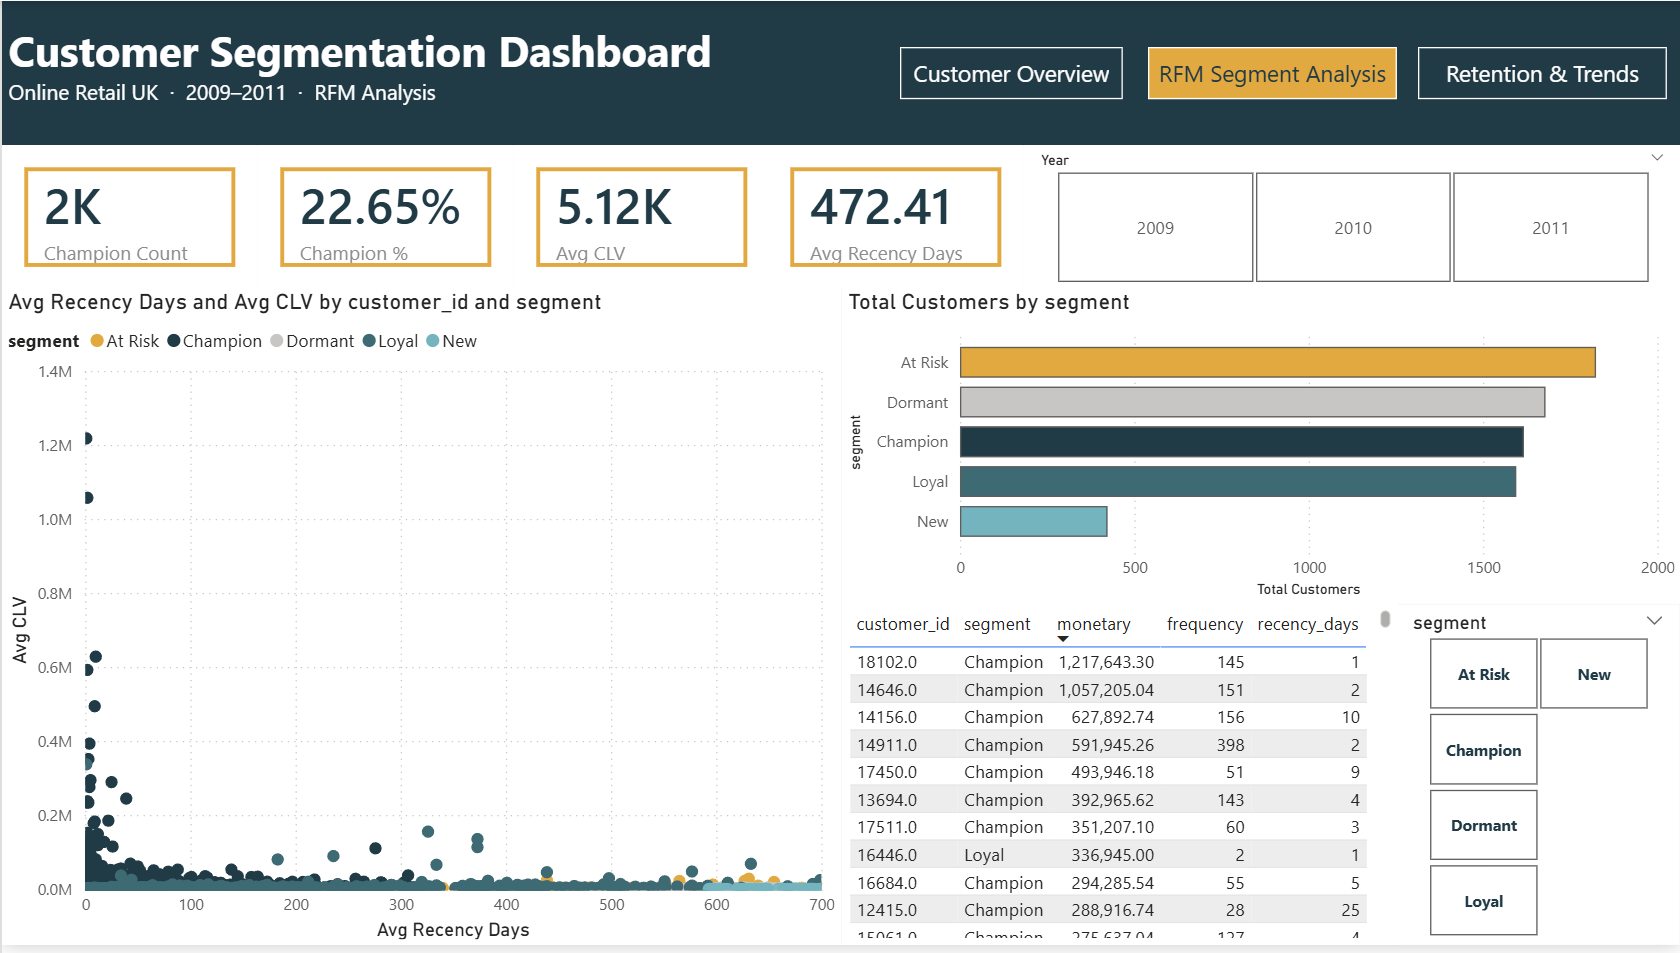

What the dashboard file says about the page in this screenshot:
{"tool":"powerbi","page":{"name":"RFM Segment Analysis","canvas":[1280,720],"ordinal":1},"visuals":[{"type":"shape","box":[0,0,1280,110],"z":0},{"type":"textbox","box":[0,10,1280,145.5],"z":1000},{"type":"actionButton","box":[684.4,35.2,170,39.8],"z":2000},{"type":"actionButton","box":[874.3,35.2,189.9,39.8],"z":3000},{"type":"actionButton","box":[1079.4,35.2,189.9,39.8],"z":4000},{"type":"cardVisual","fields":{"Data":["rfm_segments.Champion Count"]},"box":[0,110.2,195,110.2],"z":5000},{"type":"cardVisual","fields":{"Data":["rfm_segments.Champion %"]},"box":[195,110.2,195,110.2],"z":6000},{"type":"cardVisual","fields":{"Data":["rfm_segments.Avg CLV"]},"box":[390,110.2,195,110.2],"z":7000},{"type":"cardVisual","fields":{"Data":["rfm_segments.Avg Recency Days"]},"box":[585,110.2,195,110.2],"z":8000},{"type":"scatterChart","fields":{"Category":["rfm_segments.customer_id"],"X":["rfm_segments.Avg Recency Days"],"Y":["rfm_segments.Avg CLV"],"Series":["rfm_segments.segment"]},"box":[0,219.3,640,501],"z":9000},{"type":"clusteredBarChart","fields":{"Category":["rfm_segments.segment"],"Y":["rfm_segments.Total Customers"]},"box":[640,220,640,240],"z":10000},{"type":"tableEx","fields":{"Values":["rfm_segments.customer_id","rfm_segments.segment","rfm_raw.monetary","rfm_raw.frequency","rfm_raw.recency_days"]},"box":[640,459.3,424.1,260.3],"z":11000},{"type":"slicer","fields":{"Values":["rfm_segments.segment"]},"box":[1064,460,216,259],"z":12000},{"type":"slicer","fields":{"Values":["orders.invoice_date.Variation.Date Hierarchy.Year"]},"box":[779.6,109.8,500.4,111.4],"z":12001}]}

Visuals, with their boxes in screenshot pixels (x1, y1, x2, y2), scaled from the page's 1280x720 canvas onto the 1680x953 screenshot:
shape: bbox=(0, 0, 1679, 146)
textbox: bbox=(0, 13, 1679, 206)
actionButton: bbox=(898, 47, 1121, 99)
actionButton: bbox=(1148, 47, 1397, 99)
actionButton: bbox=(1417, 47, 1666, 99)
cardVisual - rfm_segments.Champion Count: bbox=(0, 146, 256, 292)
cardVisual - rfm_segments.Champion %: bbox=(256, 146, 512, 292)
cardVisual - rfm_segments.Avg CLV: bbox=(512, 146, 768, 292)
cardVisual - rfm_segments.Avg Recency Days: bbox=(768, 146, 1024, 292)
scatterChart - rfm_segments.customer_id x rfm_segments.Avg Recency Days: bbox=(0, 290, 840, 952)
clusteredBarChart - rfm_segments.segment x rfm_segments.Total Customers: bbox=(840, 291, 1679, 609)
tableEx - rfm_segments.customer_id x rfm_segments.segment: bbox=(840, 608, 1397, 952)
slicer - rfm_segments.segment: bbox=(1396, 609, 1679, 952)
slicer - orders.invoice_date.Variation.Date Hierarchy.Year: bbox=(1023, 145, 1679, 293)
